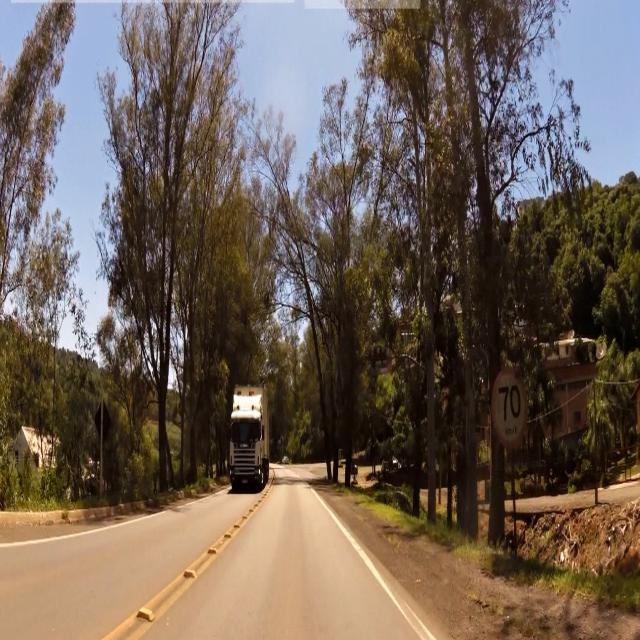R-19: (489, 368, 533, 452)
